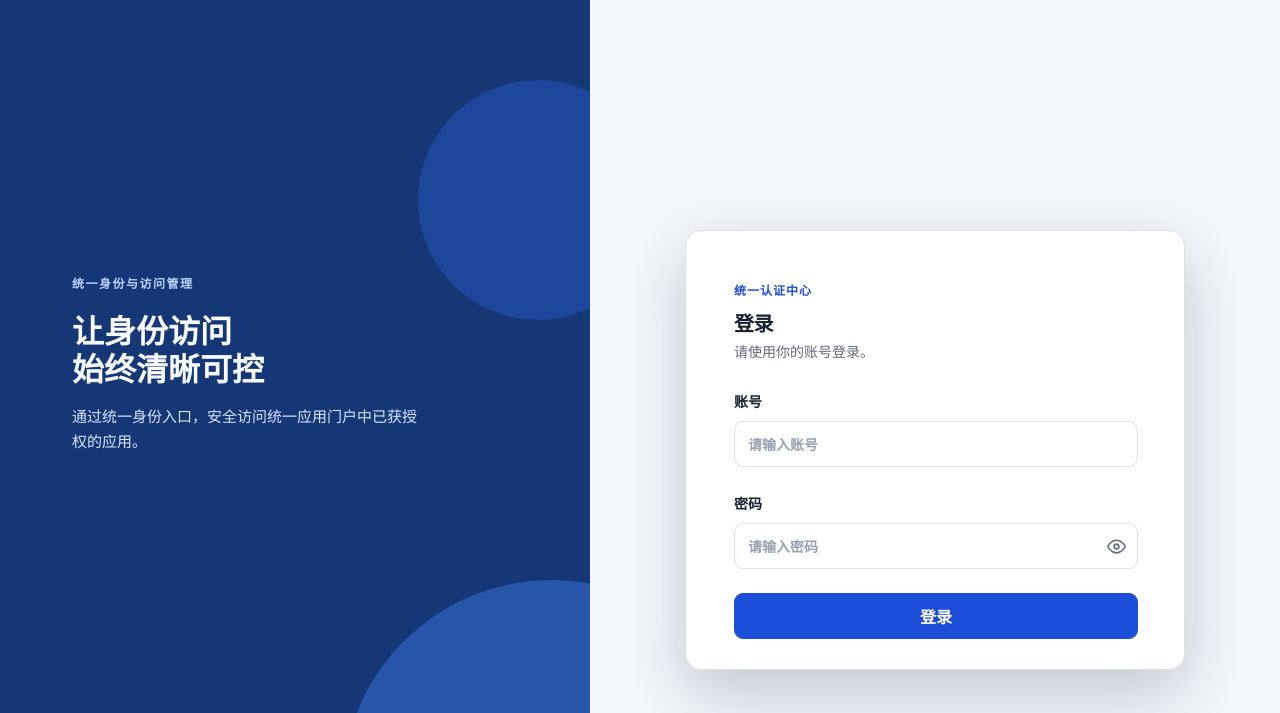
Test case: LoginView › 登录响应要求强制改密时应提示并跳转改密页
Step 1. Type "user" into the field labelled "账号" → coordinates (936, 444), box [734, 421, 1138, 467]
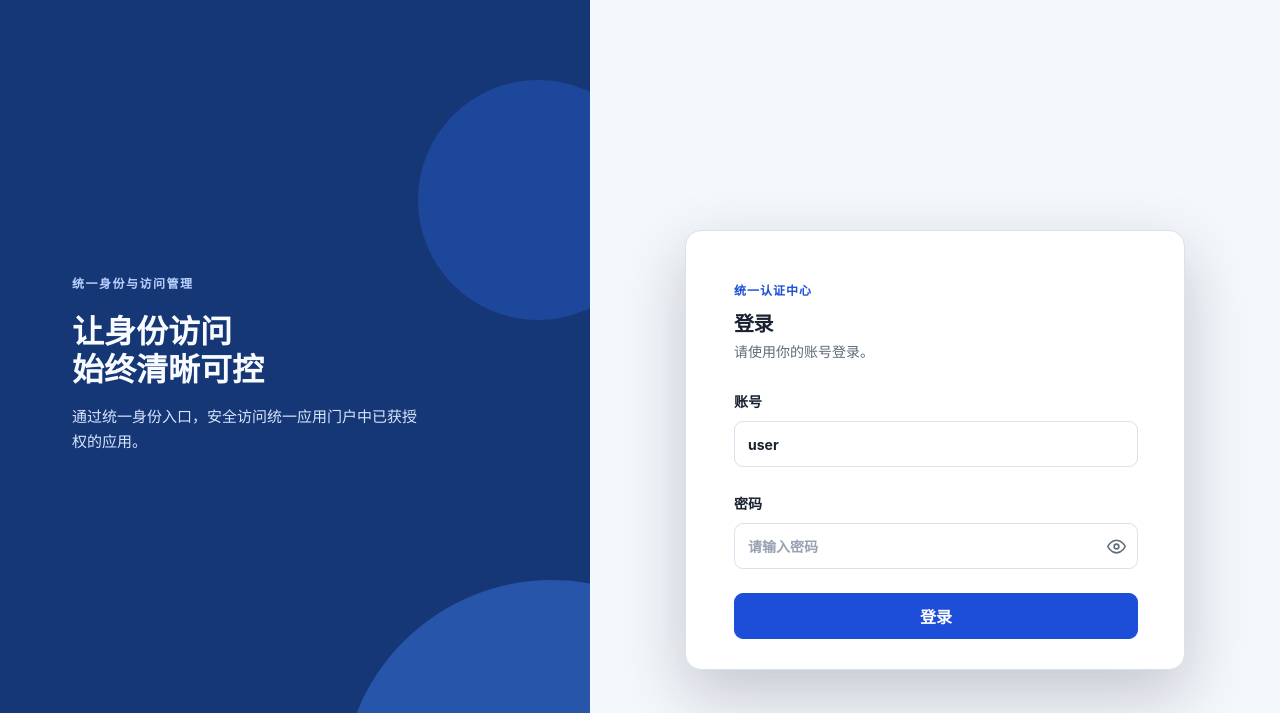
Step 2. Type "Admin@1234" into the password field labelled "密码" → coordinates (936, 546), box [734, 523, 1138, 569]
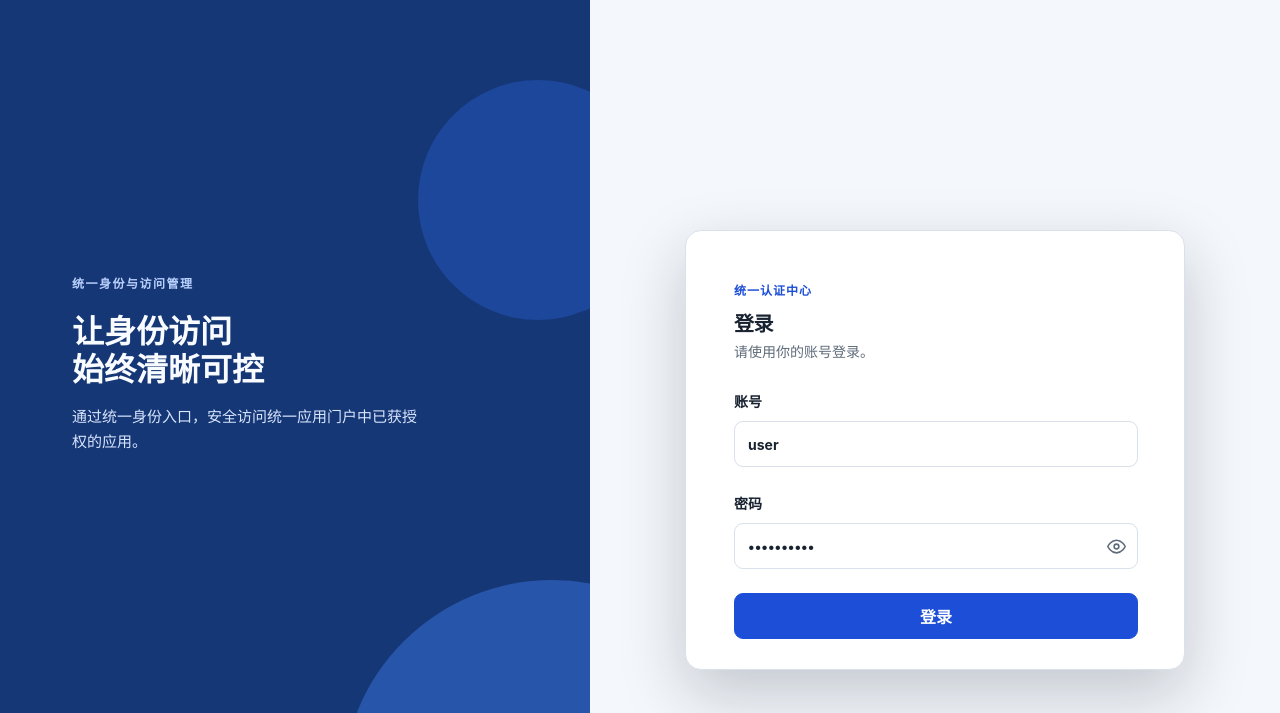
Step 3. Submit the form, box [734, 393, 1138, 639]
Wait 600 ms
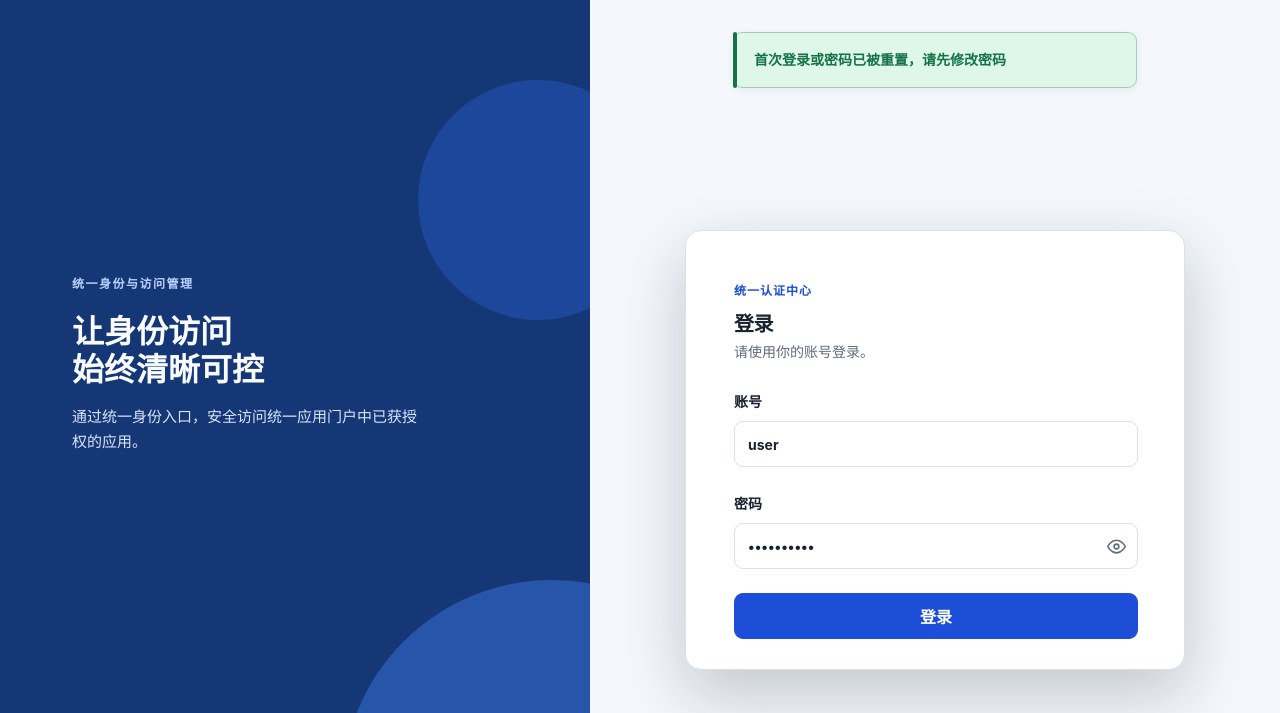
Expected: the message "首次登录或密码已被重置，请先修改密码" is shown, [733, 32, 1137, 88]
